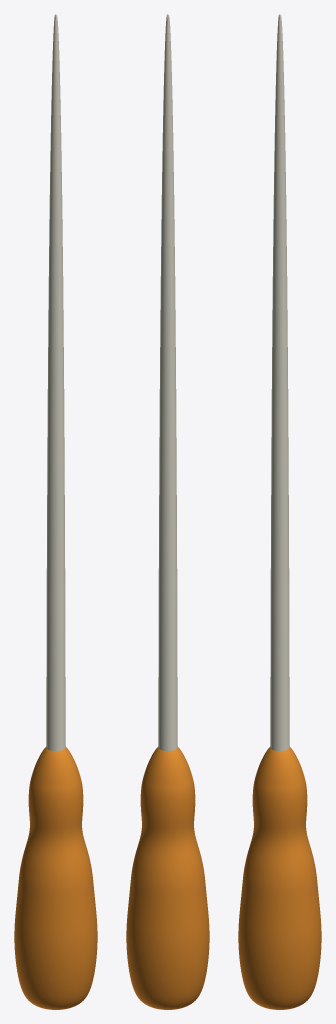
The model's file is ConductorsBaton.fbx.
3 views of the same model, side by side, from view 1: azimuth 90°, elevation 25°; view 2: azimuth 150°, elevation 25°; view 3: azimuth 270°, elevation 25° (orthographic).
Parts seen in each view (by area): view 1: ConductorsBaton; view 2: ConductorsBaton; view 3: ConductorsBaton.
Part boxes in pixels (<box>): ConductorsBaton: <box>14,14,97,1009</box>; ConductorsBaton: <box>126,14,209,1009</box>; ConductorsBaton: <box>238,14,321,1009</box>.
Bounding box in the file's own units: 52.24 × 687 × 52.24.
